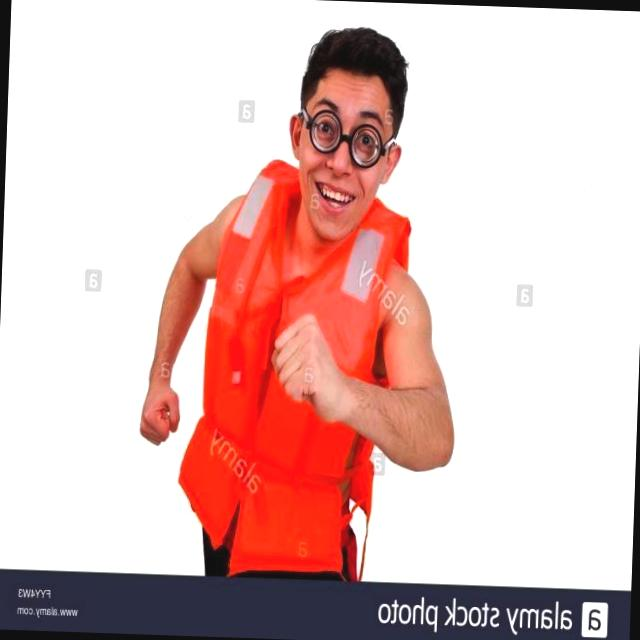vest: (173, 159, 444, 499)
